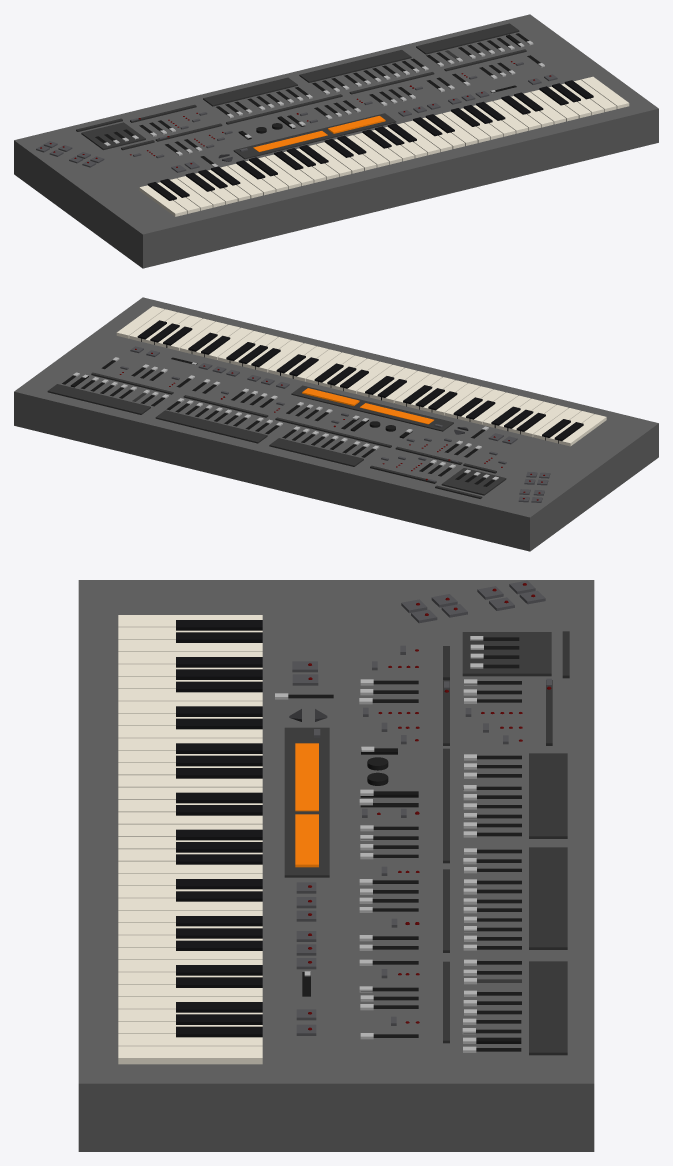
The picture shows the model from 3 angles, top to bottom: view 1: azimuth 30°, elevation 25°; view 2: azimuth 150°, elevation 25°; view 3: azimuth 270°, elevation 25°; orthographic projection. The views are drawn at different scales.
Visible parts, largest first — view 1: synth_body.1, panel1.1, panel3, panel3.1, panel2, panel1, Key_C1, Key_C6, panel1.2, Key_F1, Key_F4, Key_F5 (+18 smaller); view 2: synth_body.1, panel1.1, panel3, panel3.1, panel2, panel1, Key_C1, Key_C6, panel1.2, Key_F1, Key_F4, Key_F5 (+18 smaller); view 3: synth_body.1, panel1.1, panel3, panel3.1, panel1, panel2, Key_C6, panel1.2, Key_B2, Key_E2, Key_B1, Key_E3 (+58 smaller).
Boxes of the visible parts, x1,y1,x2,y2 form: synth_body.1: [14, 14, 658, 268]; panel1.1: [233, 113, 396, 159]; panel3: [299, 50, 411, 82]; panel3.1: [416, 23, 519, 54]; panel2: [203, 77, 297, 106]; panel1: [81, 122, 145, 150]; Key_C1: [139, 185, 187, 216]; Key_C6: [581, 76, 629, 108]; panel1.2: [253, 131, 327, 151]; Key_F1: [177, 176, 225, 207]; Key_F4: [442, 111, 490, 142]; Key_F5: [530, 90, 578, 121]; synth_body.1: [14, 297, 658, 551]; panel1.1: [291, 385, 453, 431]; panel3: [155, 410, 267, 443]; panel3.1: [47, 384, 150, 414]; panel2: [269, 438, 363, 466]; panel1: [441, 468, 506, 495]; Key_C1: [558, 414, 606, 446]; Key_C6: [116, 306, 164, 338]; panel1.2: [360, 403, 433, 424]; Key_F1: [520, 405, 568, 437]; Key_F4: [255, 340, 303, 372]; Key_F5: [167, 318, 215, 350]; synth_body.1: [78, 580, 594, 1151]; panel1.1: [284, 727, 329, 877]; panel3: [529, 847, 567, 949]; panel3.1: [529, 961, 567, 1055]; panel1: [462, 632, 551, 676]; panel2: [529, 753, 567, 838]; Key_C6: [118, 1046, 262, 1064]; panel1.2: [295, 743, 318, 811]; Key_B2: [118, 775, 262, 787]; Key_E2: [118, 726, 262, 738]; Key_B1: [118, 689, 262, 701]; Key_E3: [118, 812, 262, 824].
Size of what is drawn, in the model's own units: 7.96 by 0.574 by 3.44.
